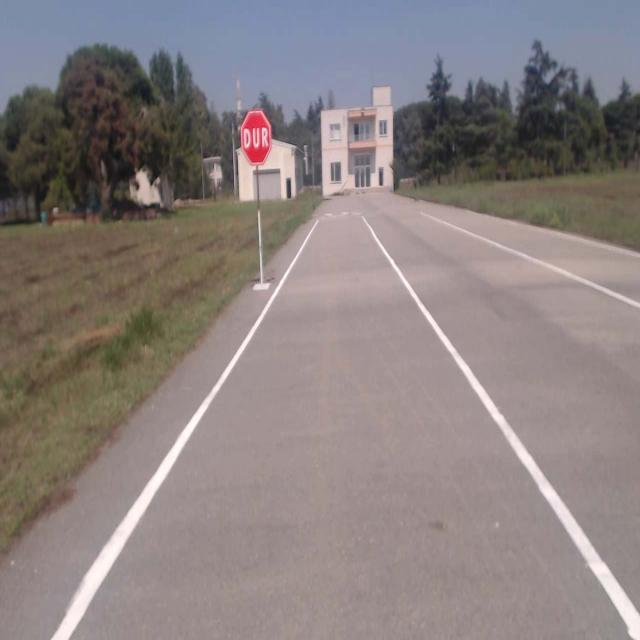dur: (240, 112, 270, 167)
